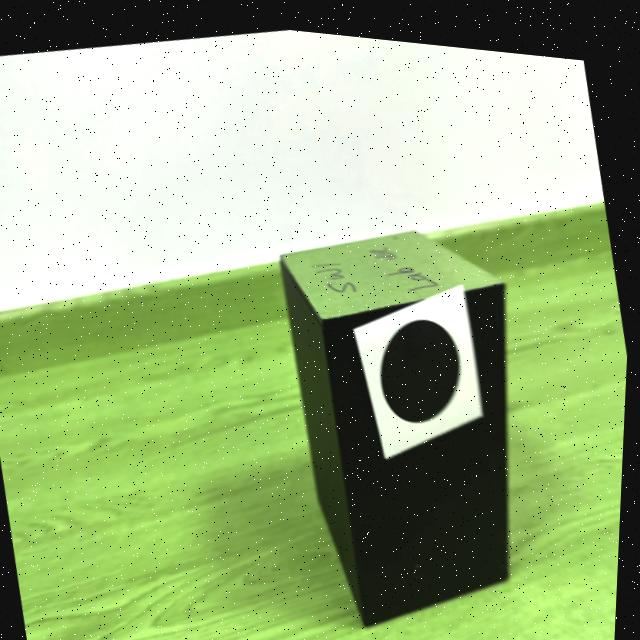CIRCLE: (385, 310, 462, 413)
